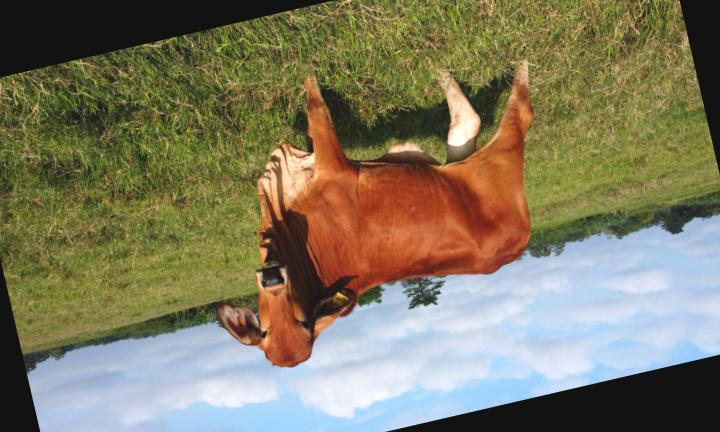Brahman: (216, 62, 534, 367)
